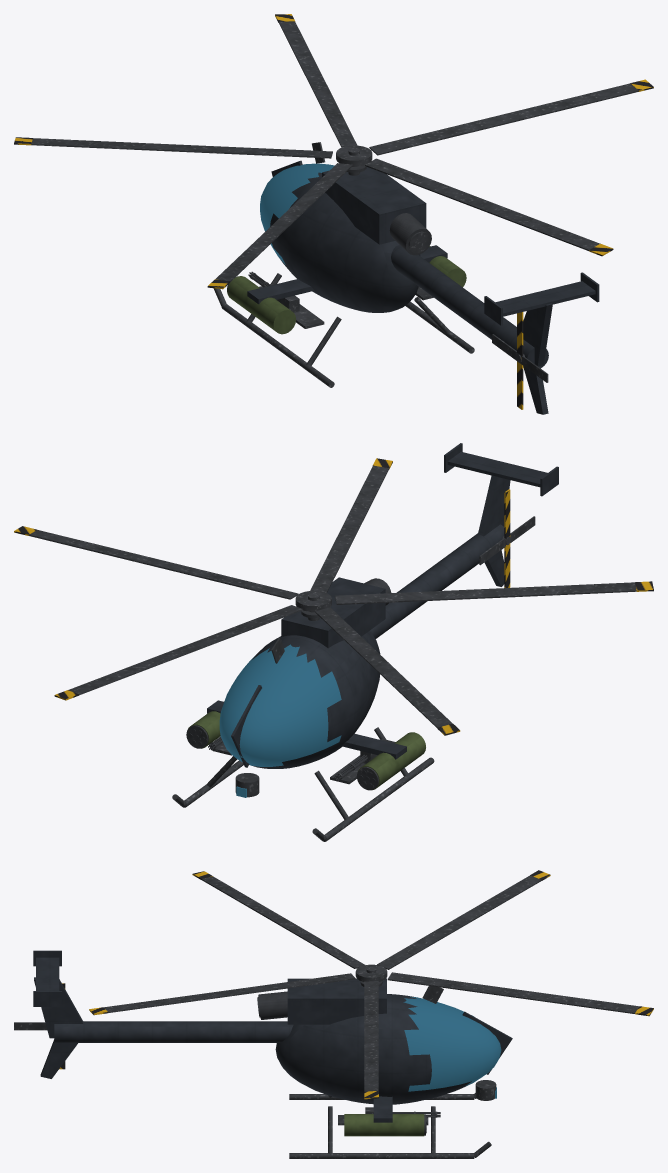
Rendered from VEH_Heli_LittleBird_AH6.glb.
3 renders of one model, top to bottom at view 1: azimuth 30°, elevation 25°; view 2: azimuth 150°, elevation 25°; view 3: azimuth 270°, elevation 25°, orthographic. The views are drawn at different scales.
Visible parts, largest first — view 1: VEH_Heli_Fuselage, VEH_Heli_RotorMain, VEH_Heli_RotorTail; view 2: VEH_Heli_Fuselage, VEH_Heli_RotorMain, VEH_Heli_RotorTail; view 3: VEH_Heli_Fuselage, VEH_Heli_RotorMain.
Part boxes in pixels (x1,y1,x2,y2): VEH_Heli_Fuselage: (213, 142, 599, 414); VEH_Heli_RotorMain: (14, 14, 653, 289); VEH_Heli_RotorTail: (492, 312, 548, 409); VEH_Heli_Fuselage: (172, 443, 558, 841); VEH_Heli_RotorMain: (14, 458, 653, 735); VEH_Heli_RotorTail: (479, 489, 535, 587); VEH_Heli_Fuselage: (33, 950, 512, 1158); VEH_Heli_RotorMain: (89, 870, 653, 1099).
Bounding box in the file's own units: 7.84 × 2.58 × 9.34.
6 materials, 6 textured.
